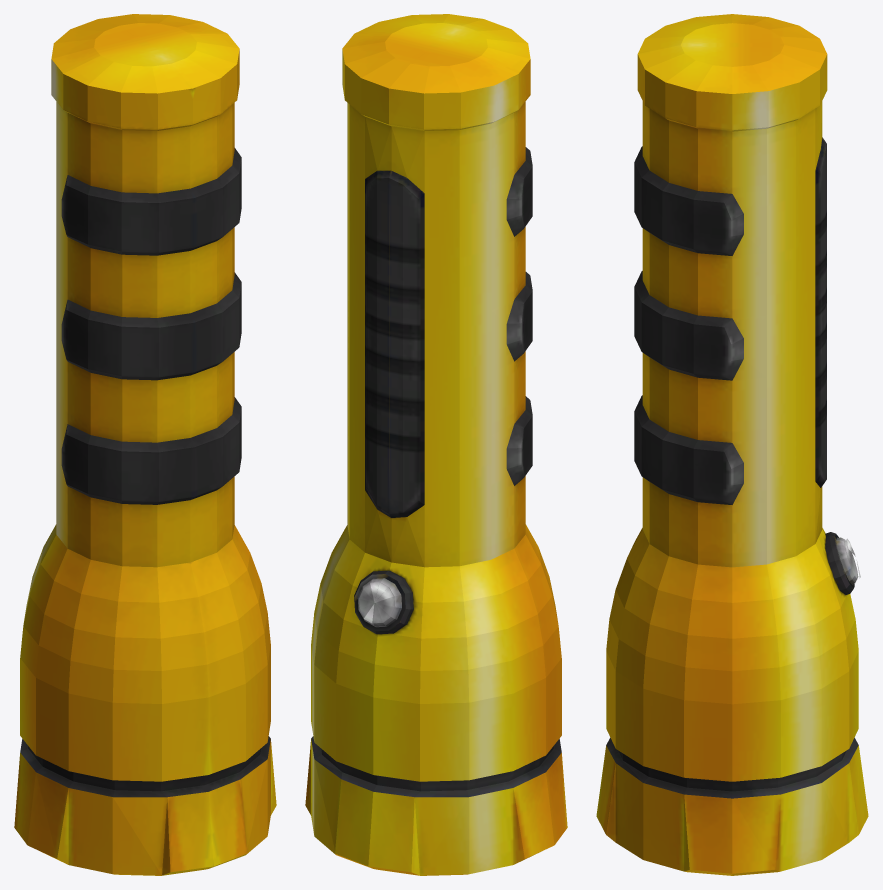
The model's file is lucerna.glb.
3 renders of one model, left to right at view 1: azimuth 30°, elevation 25°; view 2: azimuth 150°, elevation 25°; view 3: azimuth 270°, elevation 25°, orthographic.
Parts seen in each view (by area): view 1: lucerna; view 2: lucerna; view 3: lucerna.
Part boxes in pixels (box(x1,y1,x2,y2)): lucerna: box(14, 14, 276, 875); lucerna: box(305, 14, 567, 875); lucerna: box(596, 14, 868, 875).
Bounding box in the file's own units: 0.1107 × 0.35 × 0.1105.
Materials: 3 (3 with a texture image).
